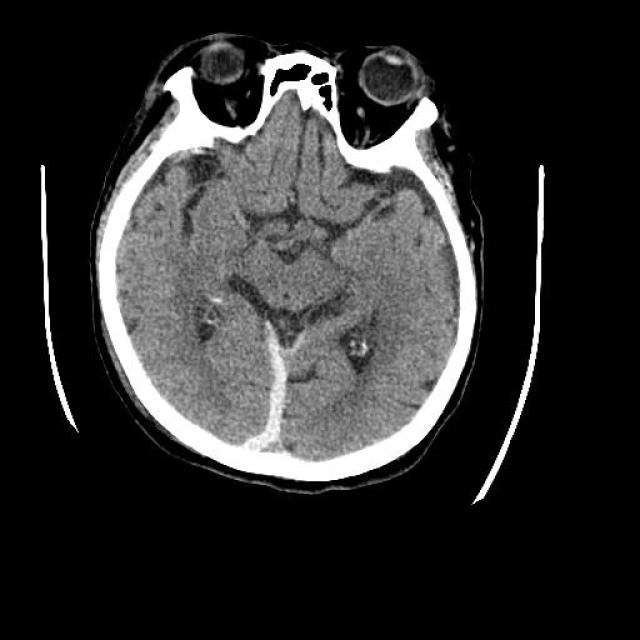Subdural: (222, 322, 318, 472)
